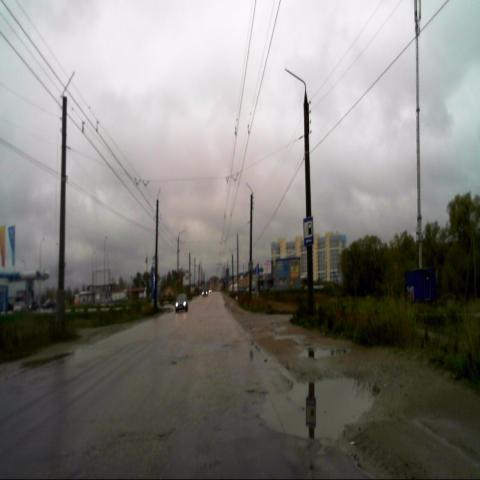7_3: (303, 216, 314, 245)
